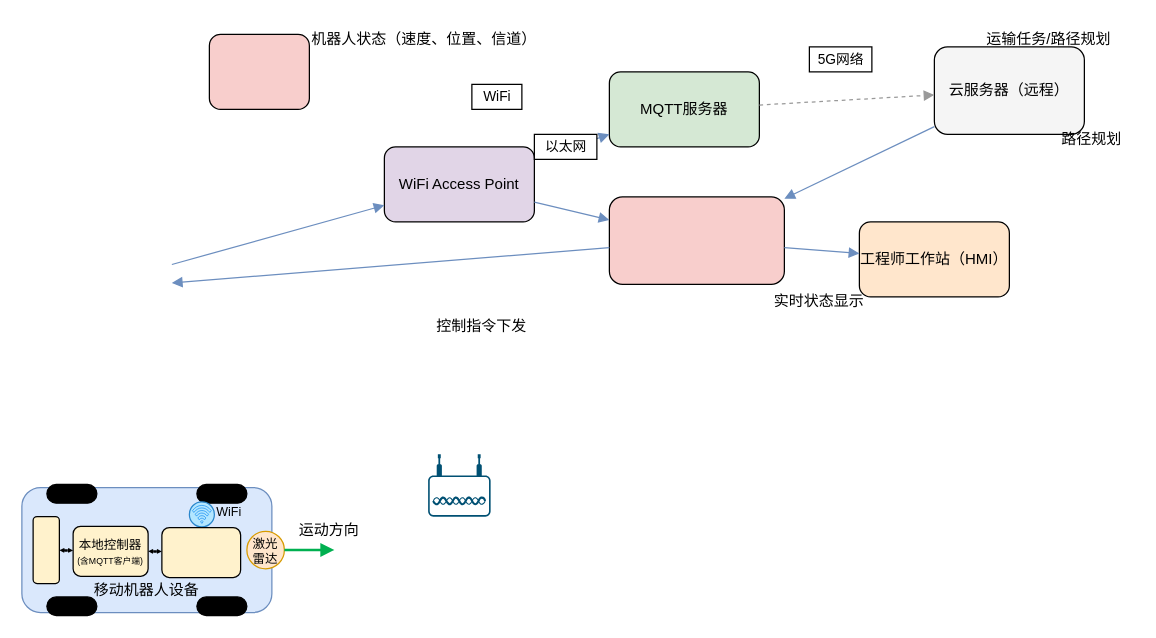
The diagram is 1156 pixels wide and 638 high, and some of its shapes have lost their labels. The shapes that lost their labels are listed below. From the top down, each one's box as (x1, y1, x2, y2) in pixels, then its label:
(208, 33, 309, 109): 状态采集 速度/位置/信道强度
(608, 196, 784, 284): 管控边缘服务器
(32, 515, 59, 584): 驱动装置
(161, 526, 241, 578): 通信接口 ( 含信号强度测量 )
